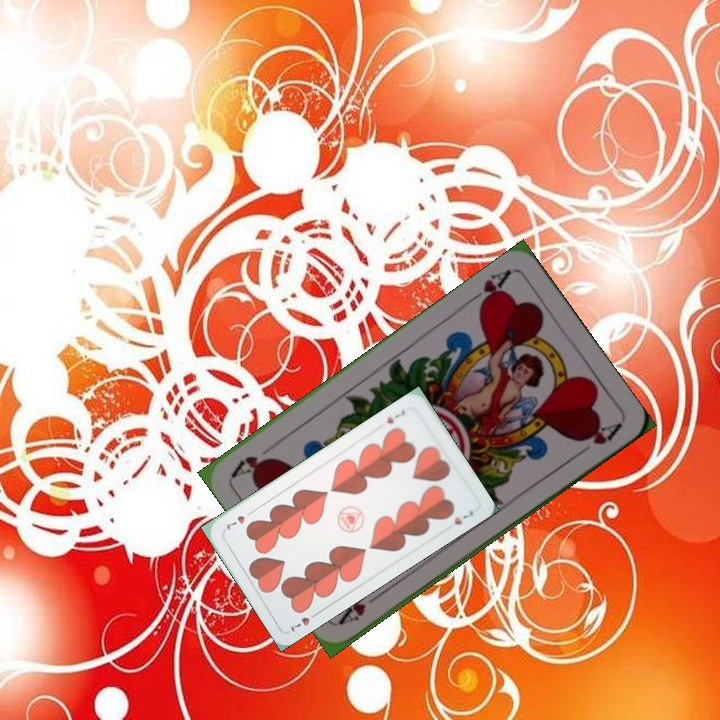H7: (287, 607, 322, 635), (382, 406, 408, 426)
HA: (463, 265, 515, 313), (335, 587, 387, 627)
